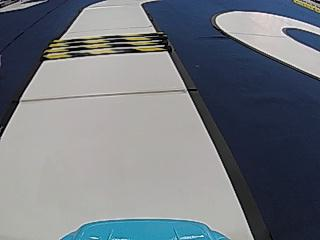bump: (38, 28, 172, 64)
